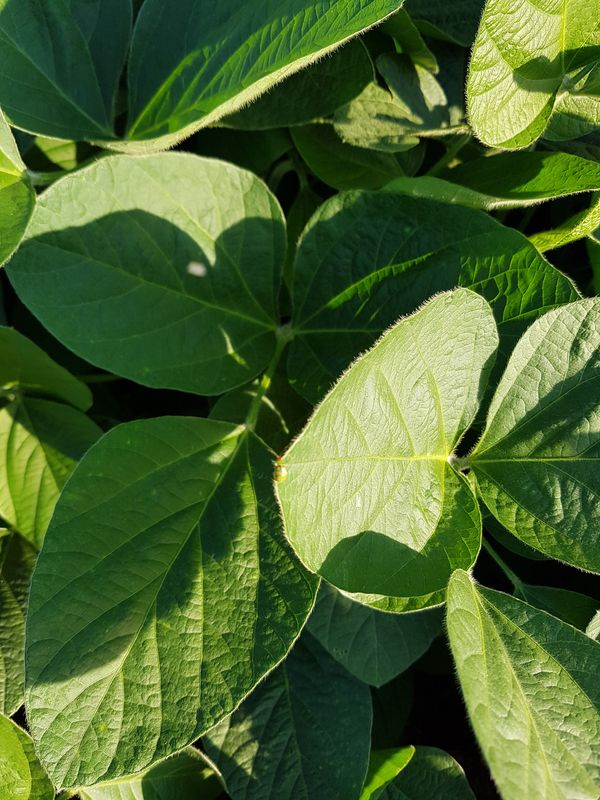Diabrotica_speciosa: (265, 451, 295, 488)
